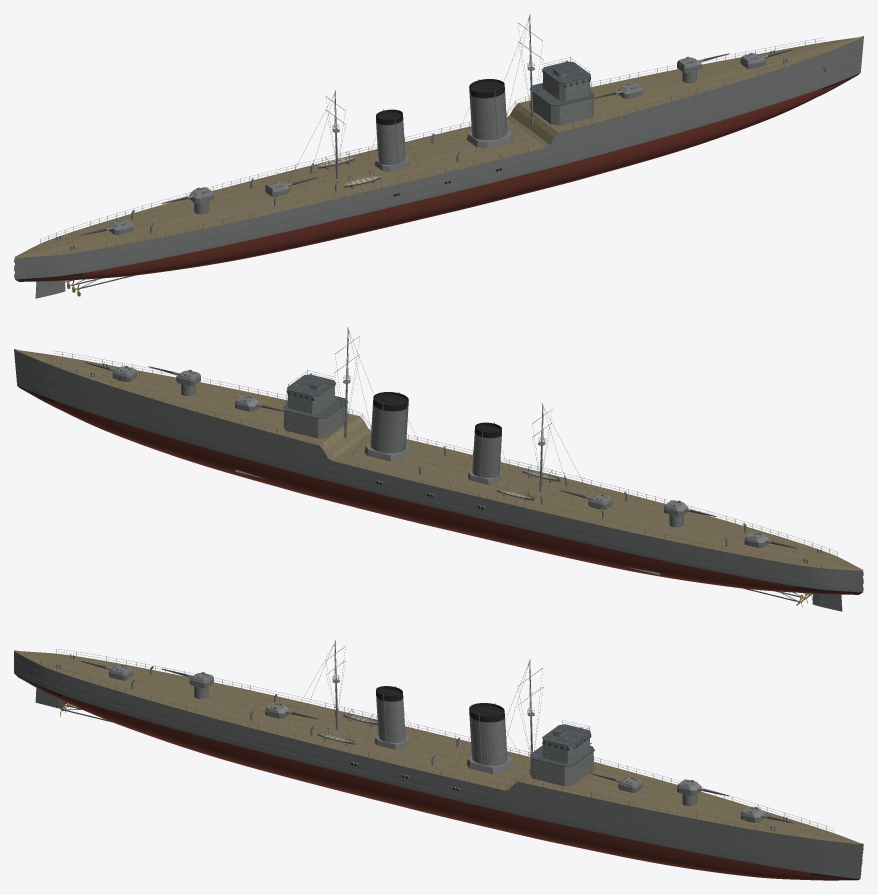
The model's file is furutaka.glb.
The picture shows the model from 3 angles, top to bottom: view 1: azimuth 30°, elevation 25°; view 2: azimuth 150°, elevation 25°; view 3: azimuth 330°, elevation 25°; orthographic projection.
Parts seen in each view (by area): view 1: Furutaka class; view 2: Furutaka class; view 3: Furutaka class.
Boxes of the visible parts, left/top/right/bottom form: Furutaka class: left=14, top=14, right=863, bottom=298; Furutaka class: left=14, top=327, right=863, bottom=611; Furutaka class: left=14, top=640, right=863, bottom=880.
Bounding box in the file's own units: 185 × 34.56 × 16.19.
Materials: 9 (8 with a texture image).
